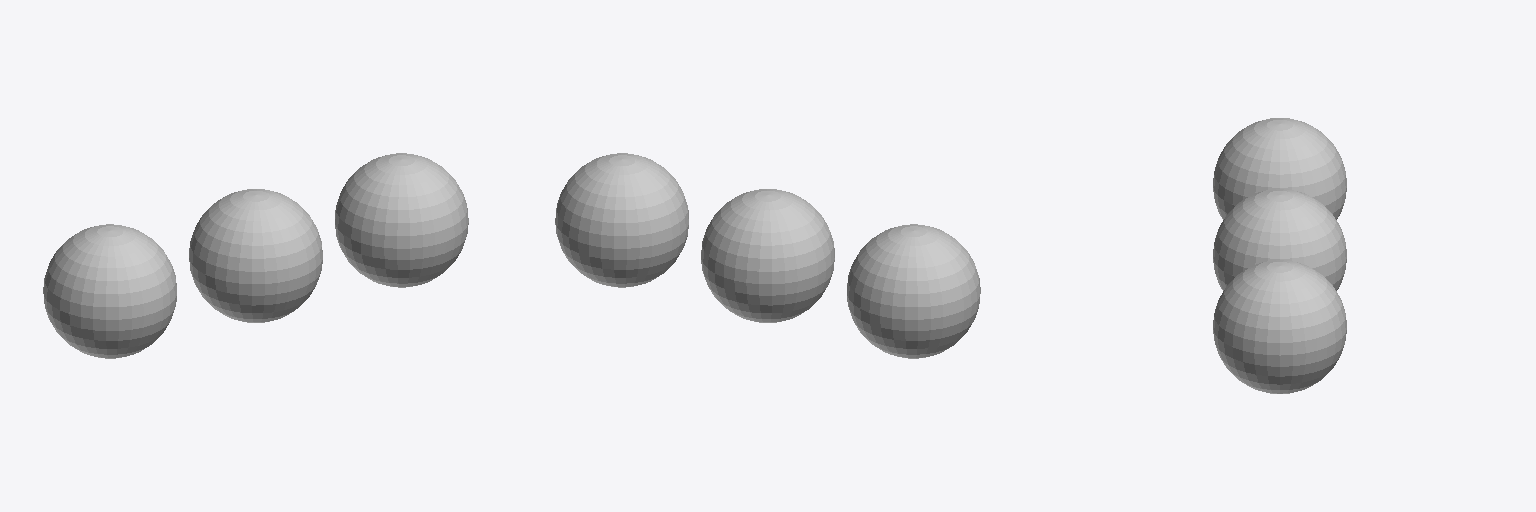
Rendered from specular_spheres.obj.
3 views of the same model, side by side, from view 1: azimuth 30°, elevation 25°; view 2: azimuth 150°, elevation 25°; view 3: azimuth 270°, elevation 25° (orthographic).
Visible parts, largest first — view 1: Sphere, Sphere.002, Sphere.001; view 2: Sphere, Sphere.002, Sphere.001; view 3: Sphere, Sphere.001, Sphere.002.
Boxes of the visible parts, x1,y1,x2,y2 form: Sphere: [335, 153, 468, 287]; Sphere.002: [43, 224, 176, 358]; Sphere.001: [189, 189, 322, 322]; Sphere: [555, 153, 688, 287]; Sphere.002: [847, 224, 980, 358]; Sphere.001: [701, 189, 834, 322]; Sphere: [1213, 260, 1346, 393]; Sphere.001: [1213, 189, 1346, 290]; Sphere.002: [1213, 118, 1346, 219].
Size of the model in its own units: 7 by 2 by 2.